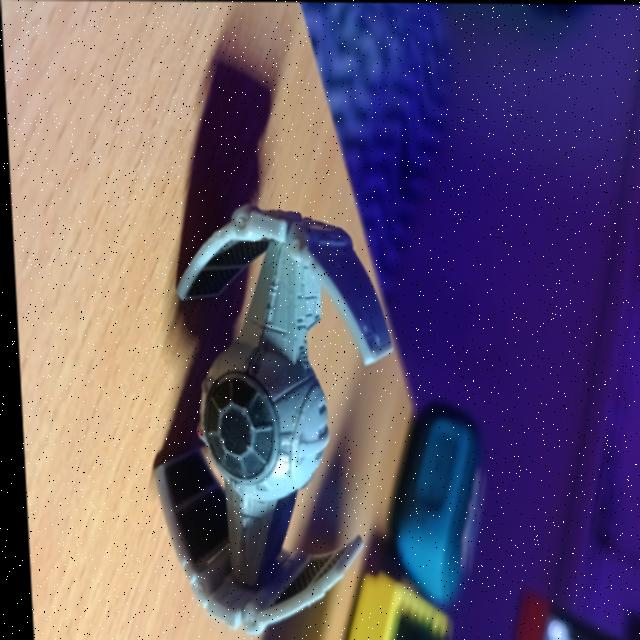tie fighter: (149, 204, 388, 634)
